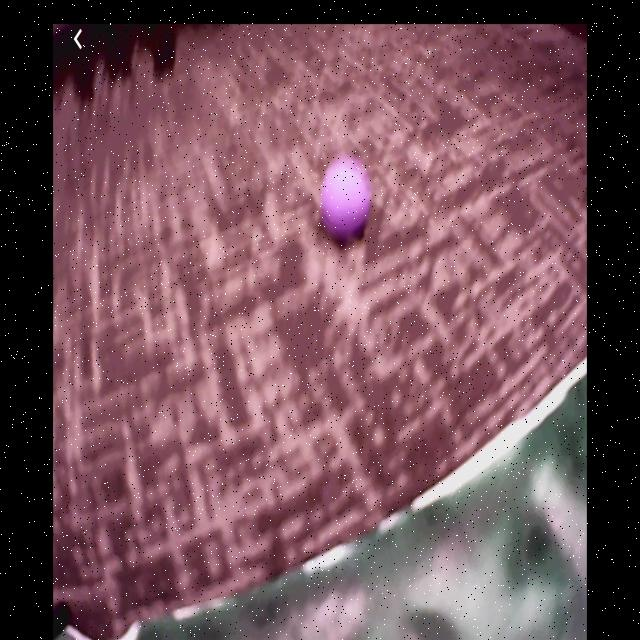ball: (322, 162, 371, 233)
